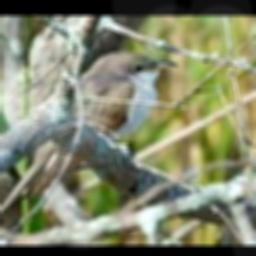Cuckoo: (5, 52, 179, 204)
